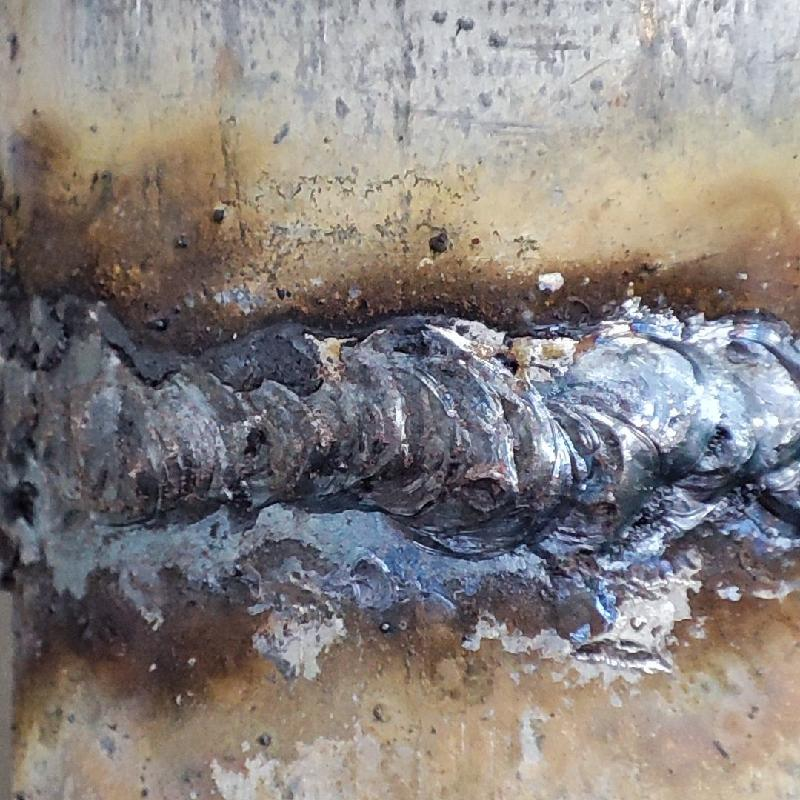good: (0, 278, 799, 565)
